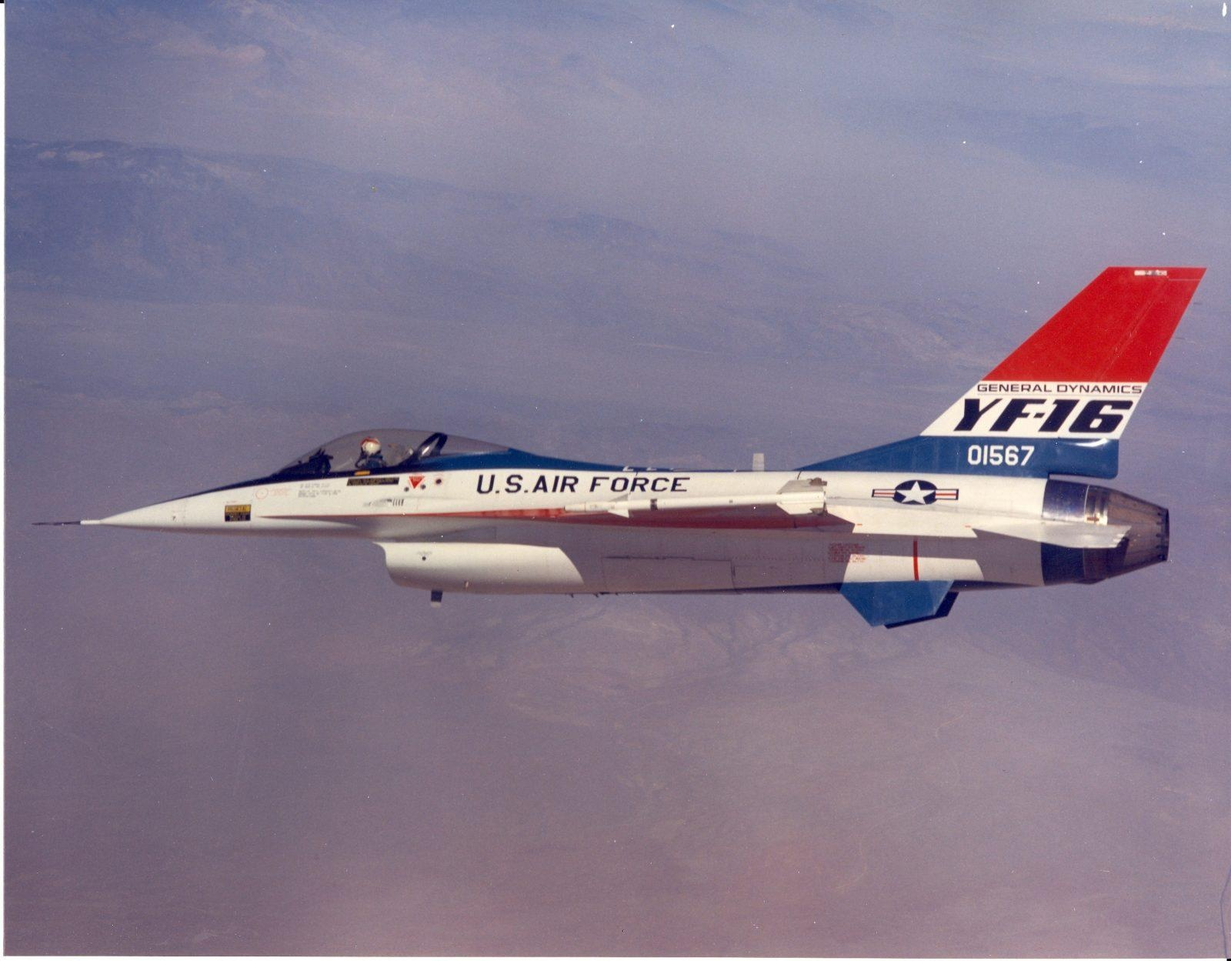aircraft: (18, 259, 1206, 632)
